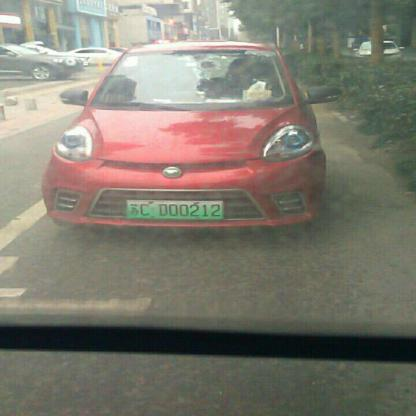lp: (127, 200, 224, 217)
